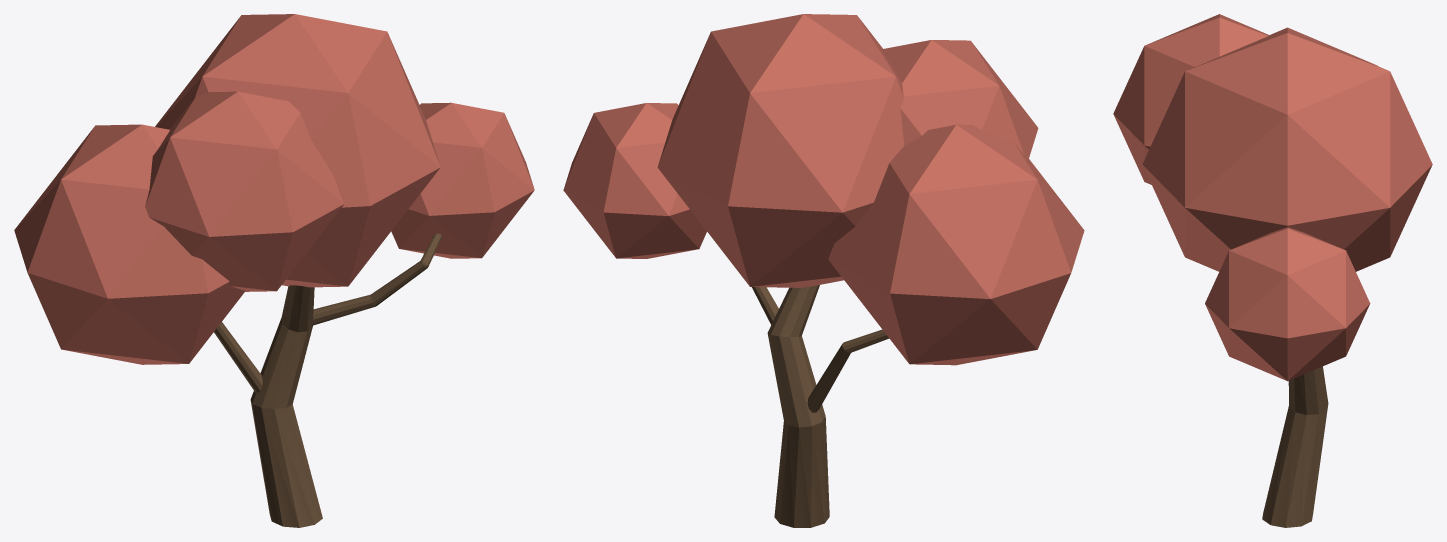
Rendered from tree_red_1.glb.
3 renders of one model, left to right at view 1: azimuth 30°, elevation 25°; view 2: azimuth 150°, elevation 25°; view 3: azimuth 270°, elevation 25°, orthographic. The views are drawn at different scales.
Visible parts, largest first — view 1: Tree Red 1; view 2: Tree Red 1; view 3: Tree Red 1.
Boxes of the visible parts, bbox=[...] form: Tree Red 1: bbox=[14, 14, 534, 527]; Tree Red 1: bbox=[563, 14, 1084, 527]; Tree Red 1: bbox=[1113, 14, 1432, 527].
Size of the model in its own units: 0.2866 by 0.2761 by 0.1654.
